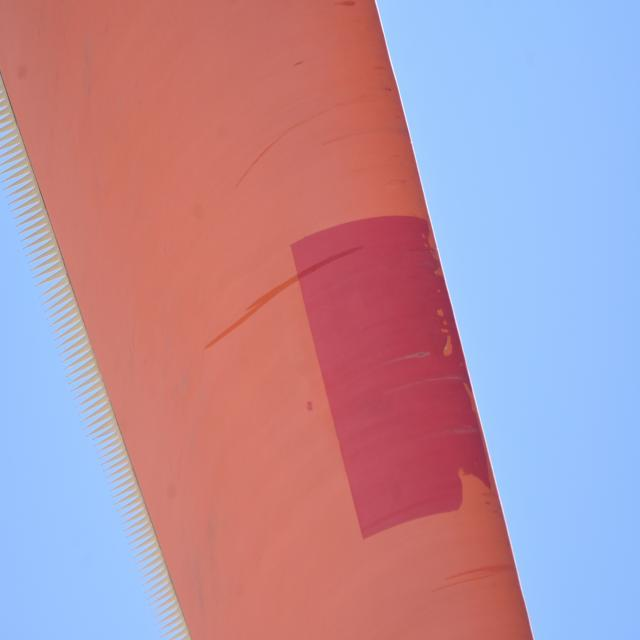EROSION: (419, 206, 482, 410)
